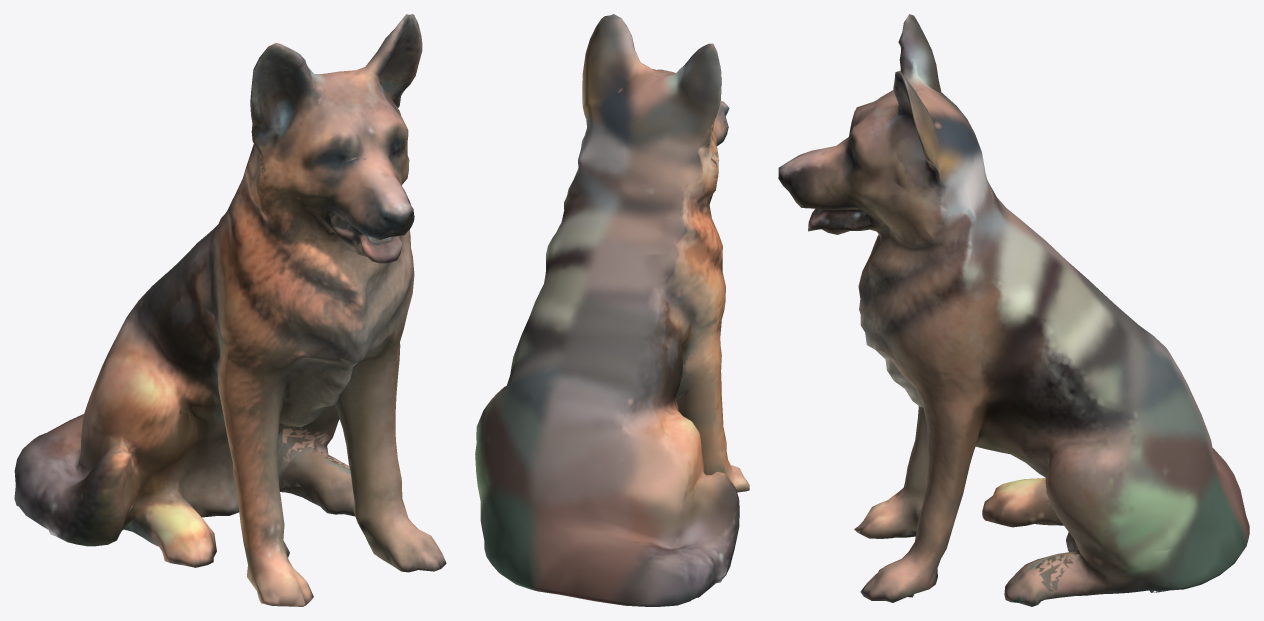
The model's file is pastor_sentado.glb.
The picture shows the model from 3 angles, left to right: view 1: azimuth 30°, elevation 25°; view 2: azimuth 150°, elevation 25°; view 3: azimuth 270°, elevation 25°; orthographic projection. The views are drawn at different scales.
Parts seen in each view (by area): view 1: geo1; view 2: geo1; view 3: geo1.
Part boxes in pixels (x1,y1,x2,y2): geo1: (14, 14, 446, 606); geo1: (475, 14, 749, 606); geo1: (778, 14, 1249, 606).
Size of the model in its own units: 0.3059 by 0.5452 by 0.446.
1 material, 1 textured.
